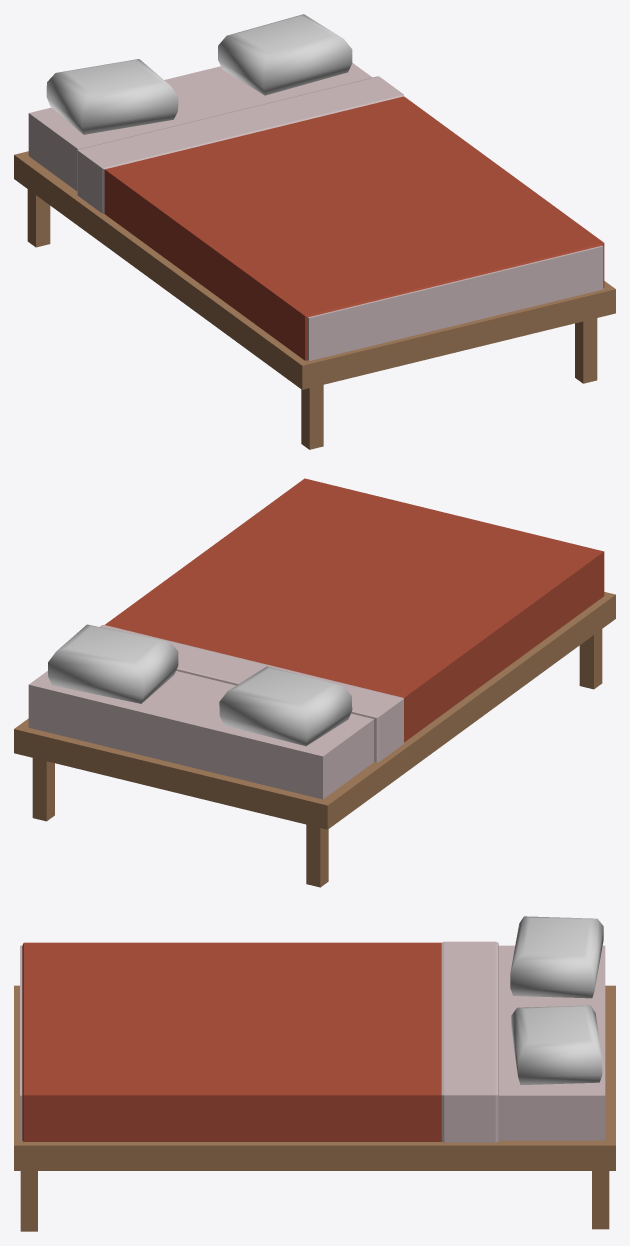
The model's file is Low Poly Bed.fbx.
3 views of the same model, one above another, from view 1: azimuth 30°, elevation 25°; view 2: azimuth 150°, elevation 25°; view 3: azimuth 270°, elevation 25° (orthographic). The views are drawn at different scales.
Parts seen in each view (by area): view 1: Low Poly Bed; view 2: Low Poly Bed; view 3: Low Poly Bed.
Part boxes in pixels (x1=…): Low Poly Bed: x1=14, y1=14, x2=615, y2=449; Low Poly Bed: x1=14, y1=478, x2=615, y2=887; Low Poly Bed: x1=14, y1=916, x2=615, y2=1231.
Size of the model in its own units: 198 by 104 by 315.
